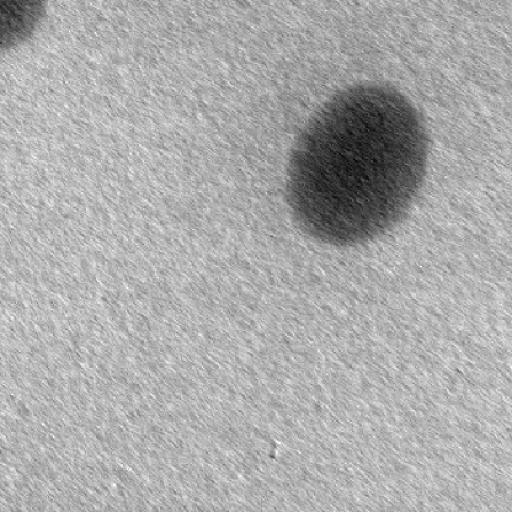Nanoparticles: (288, 124, 408, 242), (318, 82, 432, 192), (0, 0, 47, 49)
